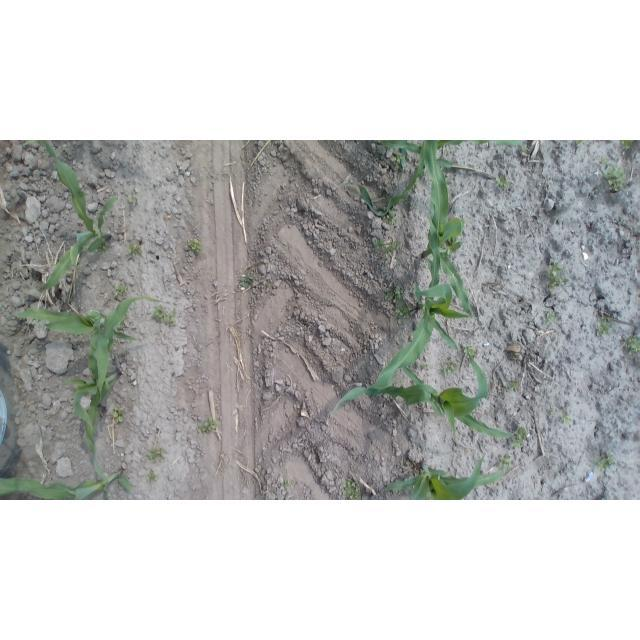Maize: (365, 205, 476, 394), (65, 293, 162, 487), (329, 348, 524, 441), (339, 141, 529, 218), (23, 141, 118, 294), (4, 310, 136, 406), (418, 140, 478, 316), (384, 453, 517, 500), (1, 462, 136, 500)
Weeds: (603, 164, 630, 194), (547, 261, 570, 295), (593, 312, 616, 339), (593, 451, 616, 474), (341, 477, 364, 500), (373, 238, 402, 255), (152, 306, 177, 325), (438, 237, 462, 256), (198, 415, 219, 435), (622, 334, 640, 357), (184, 236, 203, 256), (385, 284, 404, 302), (238, 271, 255, 290), (147, 447, 166, 464), (512, 428, 527, 448), (111, 404, 125, 425), (128, 241, 145, 258), (394, 304, 412, 320), (443, 356, 458, 375), (113, 279, 128, 297), (390, 152, 406, 166), (498, 455, 512, 470), (386, 210, 398, 227), (494, 173, 508, 187), (464, 345, 477, 360), (544, 309, 556, 325), (560, 413, 574, 426), (128, 191, 141, 205), (146, 469, 159, 483), (279, 476, 292, 489), (508, 377, 520, 391), (98, 239, 109, 253), (619, 141, 635, 150), (598, 155, 610, 165), (572, 141, 585, 150), (549, 406, 557, 415), (117, 321, 126, 329), (421, 362, 427, 370)
